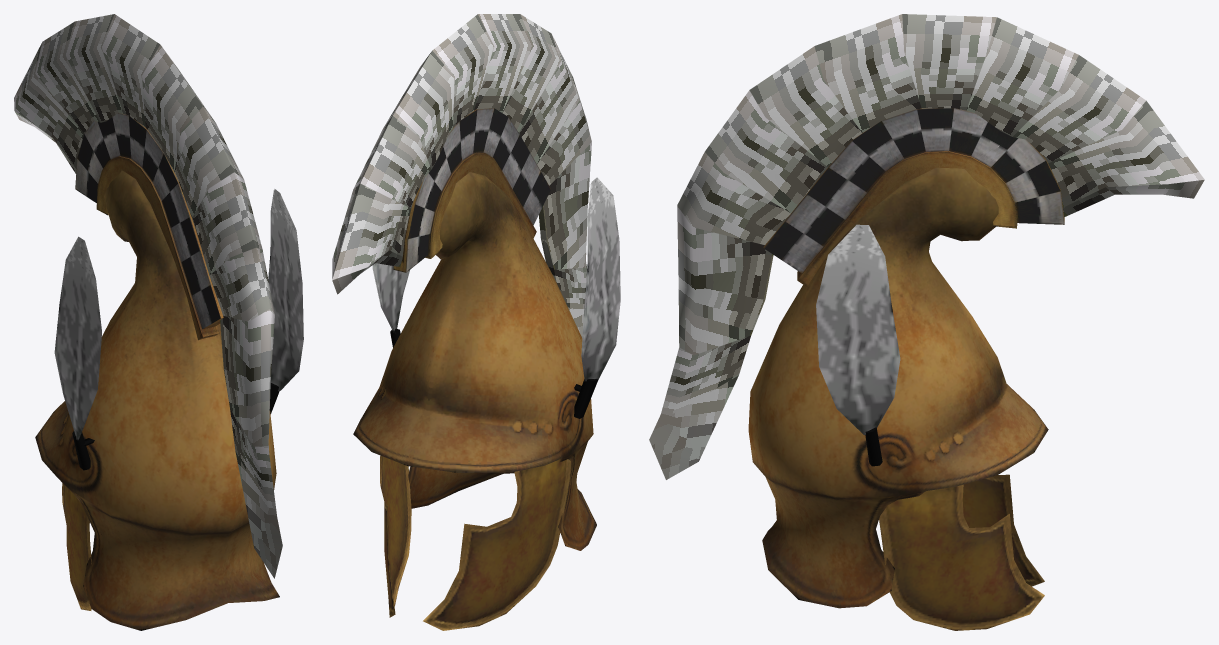
File: helm_hele_phrygian_e1.glb
3 views of the same model, side by side, from view 1: azimuth 30°, elevation 25°; view 2: azimuth 150°, elevation 25°; view 3: azimuth 270°, elevation 25° (orthographic). The views are drawn at different scales.
Visible parts, largest first — view 1: helm_hele_phrygian_e1_part0, helm_hele_phrygian_e1_part2, helm_hele_phrygian_e1_part4, helm_hele_phrygian_e1_part1, helm_hele_phrygian_e1_part3; view 2: helm_hele_phrygian_e1_part0, helm_hele_phrygian_e1_part2, helm_hele_phrygian_e1_part3, helm_hele_phrygian_e1_part1, helm_hele_phrygian_e1_part4; view 3: helm_hele_phrygian_e1_part2, helm_hele_phrygian_e1_part0, helm_hele_phrygian_e1_part1, helm_hele_phrygian_e1_part3, helm_hele_phrygian_e1_part4.
Boxes of the visible parts, x1,y1,x2,y2 form: helm_hele_phrygian_e1_part0: [35, 170, 279, 630]; helm_hele_phrygian_e1_part2: [14, 14, 282, 578]; helm_hele_phrygian_e1_part4: [54, 189, 303, 470]; helm_hele_phrygian_e1_part1: [75, 113, 223, 340]; helm_hele_phrygian_e1_part3: [62, 483, 91, 610]; helm_hele_phrygian_e1_part0: [353, 172, 596, 550]; helm_hele_phrygian_e1_part2: [332, 14, 591, 337]; helm_hele_phrygian_e1_part3: [380, 455, 570, 630]; helm_hele_phrygian_e1_part1: [393, 108, 550, 272]; helm_hele_phrygian_e1_part4: [372, 177, 620, 418]; helm_hele_phrygian_e1_part2: [649, 14, 1204, 479]; helm_hele_phrygian_e1_part0: [748, 167, 1048, 608]; helm_hele_phrygian_e1_part1: [763, 108, 1064, 286]; helm_hele_phrygian_e1_part3: [879, 474, 1044, 630]; helm_hele_phrygian_e1_part4: [816, 224, 900, 466].
Bounding box in the file's own units: 0.5363 × 1.37 × 1.17.
5 materials, 5 textured.
